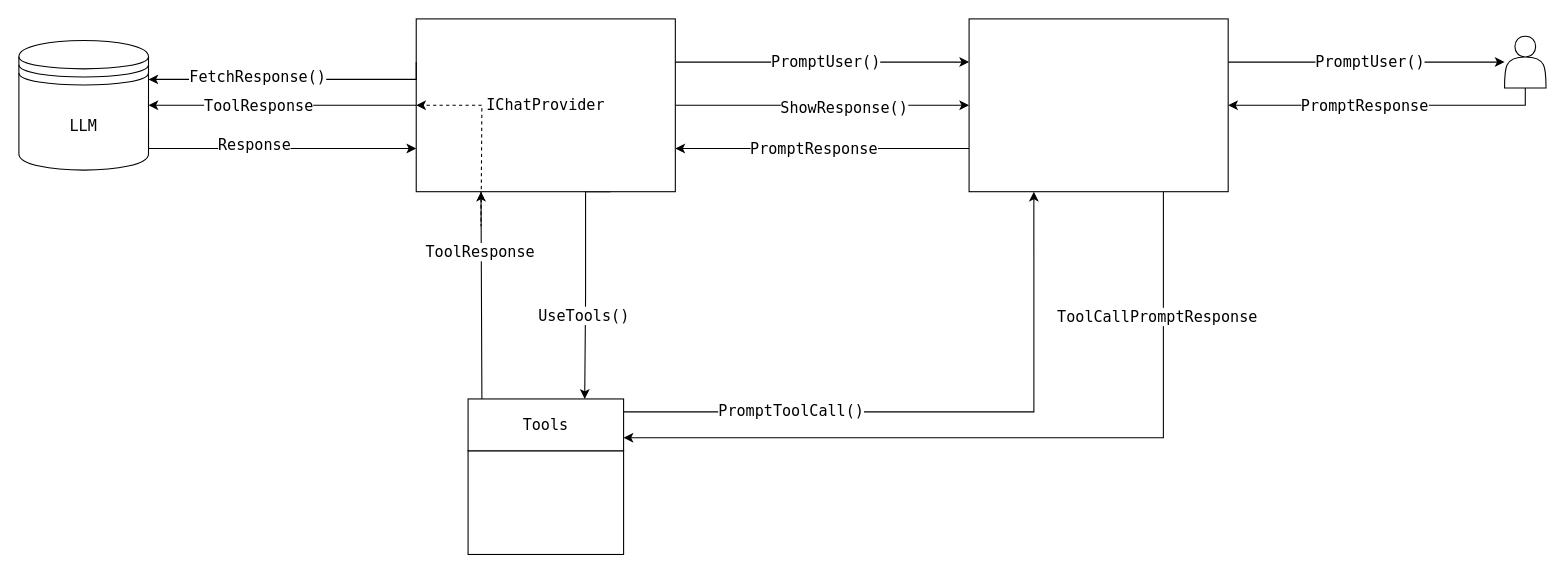
Image size: 1565x573. Some labels were removed from this diagram. The box of each missing label's shape, as (x1, y1, x2, y2) in pixels:
IChatDispatcher: (968, 18, 1228, 192)
ITool[]: (467, 450, 624, 554)
